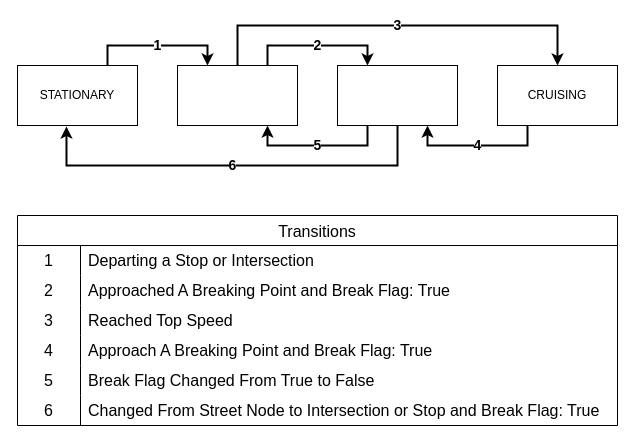
The diagram is 635 pixels wide and 443 high, and some of its shapes have lost their labels. The shapes that lost their labels are listed below. From the top down, each one's centre as x and y in pixels, then its label:
At point 237,95: "ACCELERATING".
At point 397,95: "DESCELERATING".
